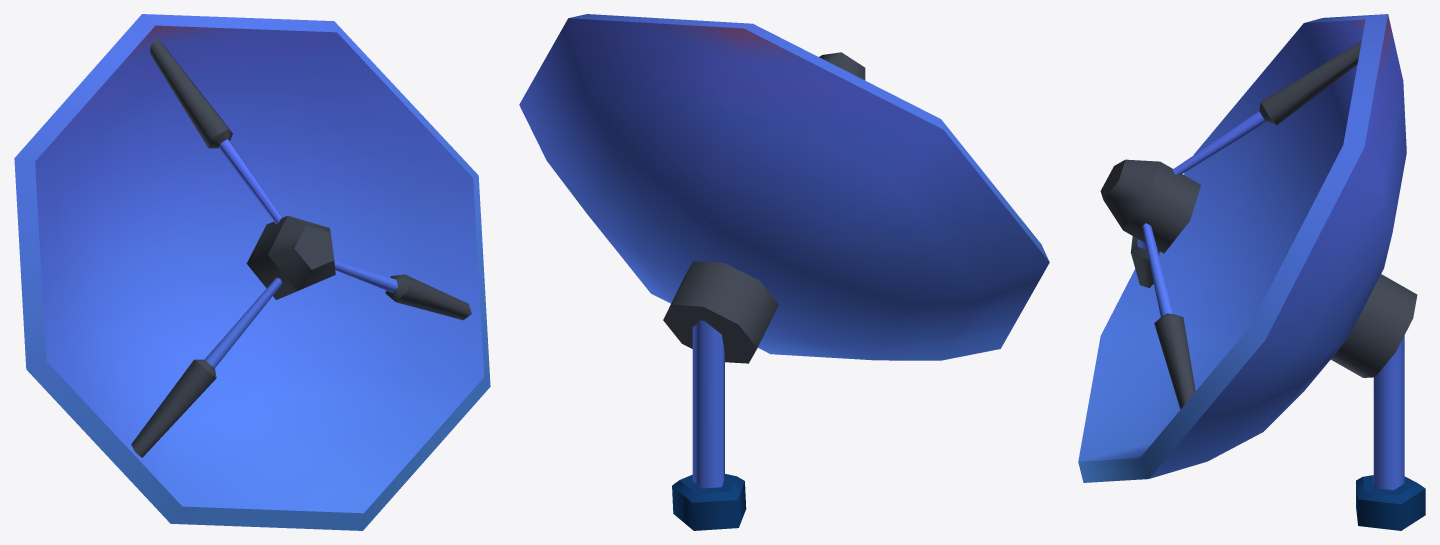
File: Antene_2_B_1.fbx
3 views of the same model, side by side, from view 1: azimuth 30°, elevation 25°; view 2: azimuth 150°, elevation 25°; view 3: azimuth 270°, elevation 25° (orthographic). The views are drawn at different scales.
Visible parts, largest first — view 1: Antene_2_B_1; view 2: Antene_2_B_1, Antene_2_B_1h; view 3: Antene_2_B_1, Antene_2_B_1h.
Part boxes in pixels (x1=…): Antene_2_B_1: x1=14, y1=14, x2=490, y2=530; Antene_2_B_1: x1=519, y1=14, x2=1049, y2=363; Antene_2_B_1h: x1=672, y1=320, x2=746, y2=530; Antene_2_B_1: x1=1078, y1=14, x2=1417, y2=482; Antene_2_B_1h: x1=1356, y1=335, x2=1425, y2=530.
Bounding box in the file's own units: 1.42 × 1.34 × 0.8686.
